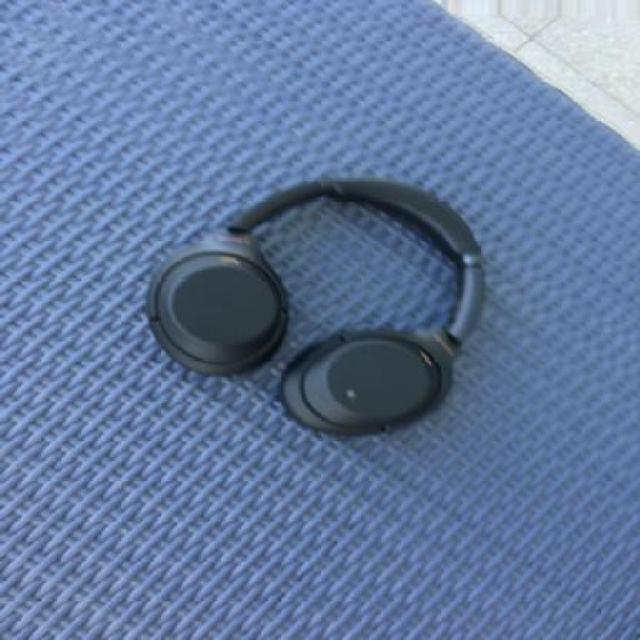earphone: (140, 143, 515, 500)
